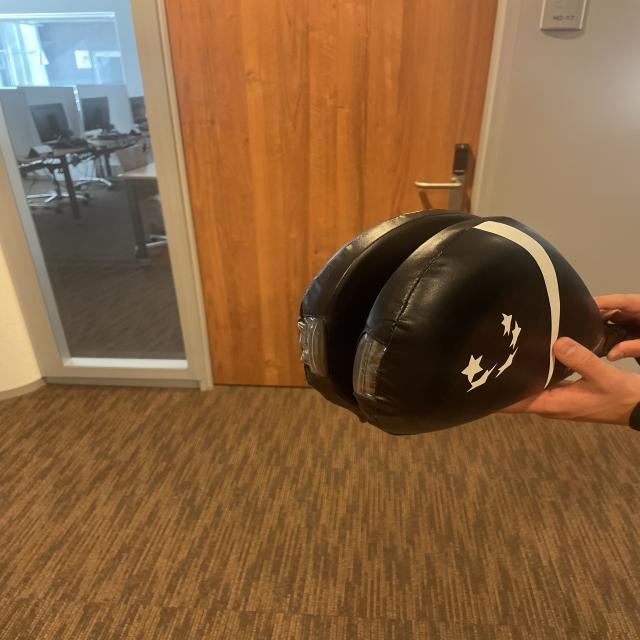paddle: (306, 213, 587, 415)
